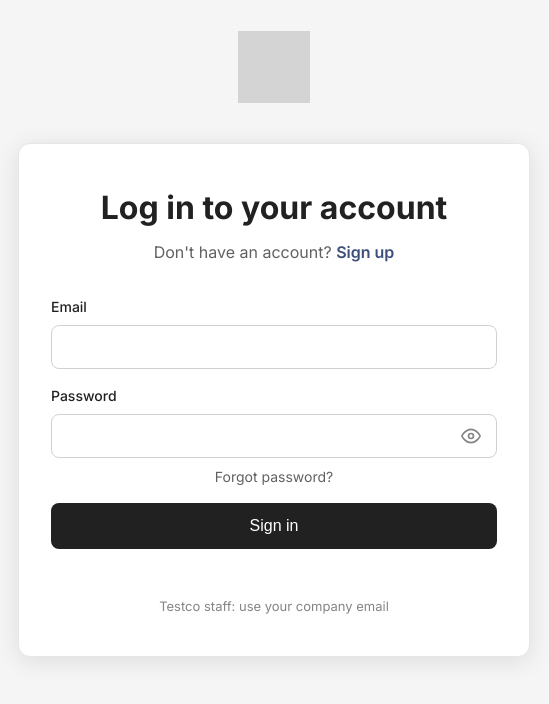
Test: Login Page › shows validation error for invalid email
The width and height of the screenshot is (549, 704).
# Use an email that passes browser validation but fails our custom validation
Type "a@b" into the field labelled "Email". click: (274, 347)
box: [51, 325, 497, 369]
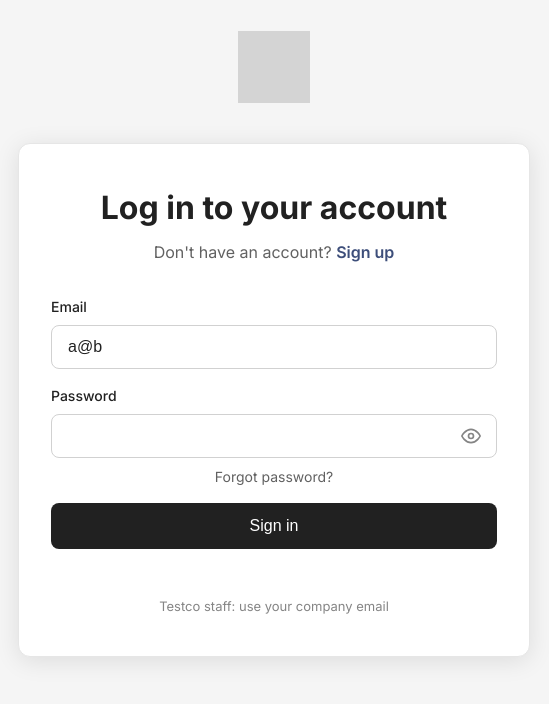
Click the button "Sign in". click: click(274, 526)
box: [51, 503, 497, 549]
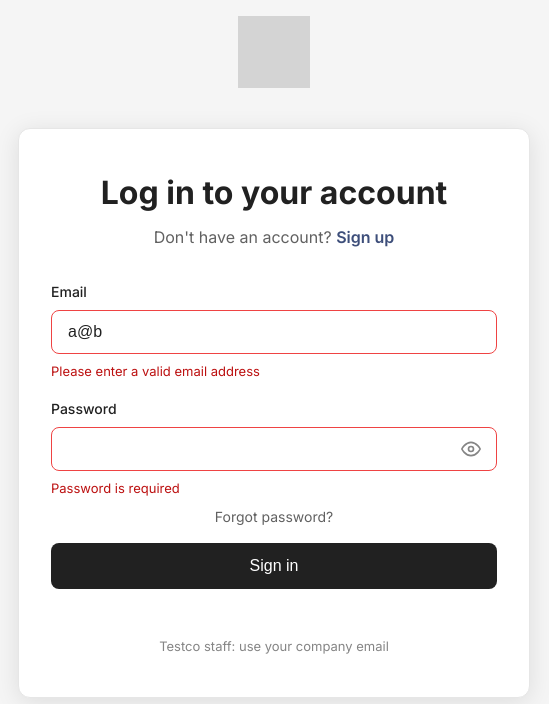
Expected: the text "Please enter a valid email address" is shown, [51, 363, 260, 379]
